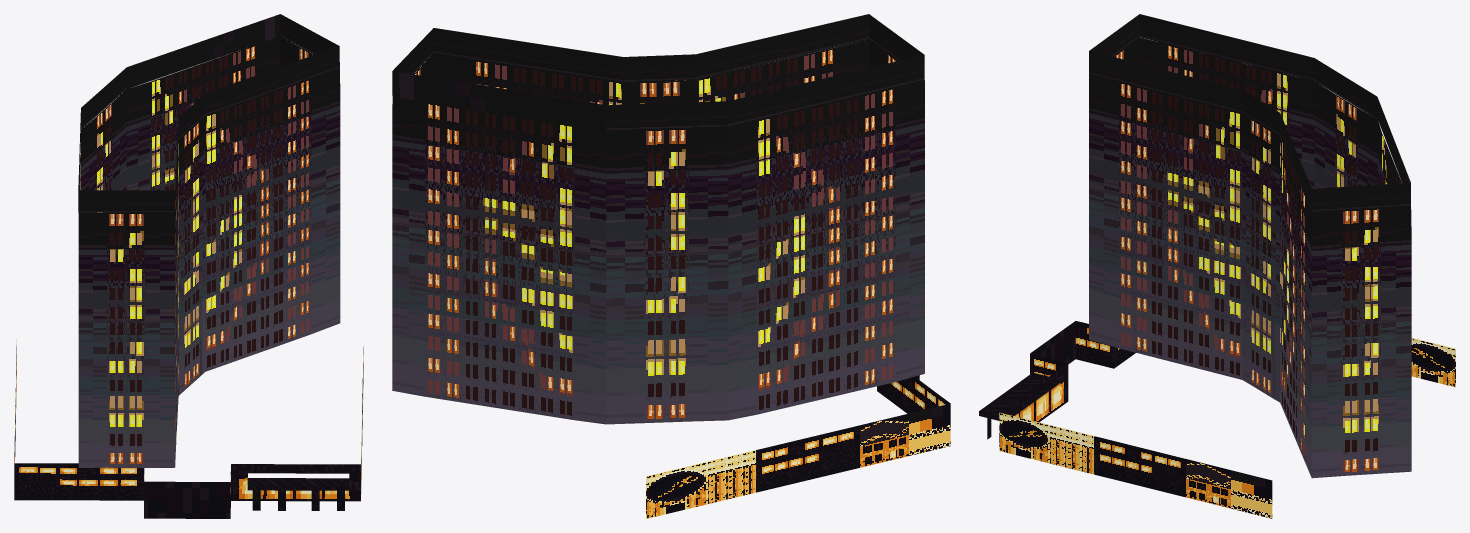
3 renders of one model, left to right at view 1: azimuth 30°, elevation 25°; view 2: azimuth 150°, elevation 25°; view 3: azimuth 270°, elevation 25°, orthographic. The views are drawn at different scales.
Parts seen in each view (by area): view 1: obj-178; view 2: obj-178; view 3: obj-178.
Part boxes in pixels (x1=…): obj-178: x1=14, y1=14, x2=363, y2=518; obj-178: x1=392, y1=14, x2=950, y2=518; obj-178: x1=979, y1=14, x2=1455, y2=518.
Size of the model in its own units: 11.71 by 8.96 by 11.82.
Materials: 1 (1 with a texture image).
